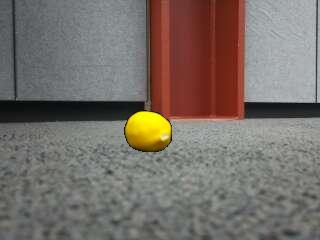lemon: (126, 111, 172, 151)
